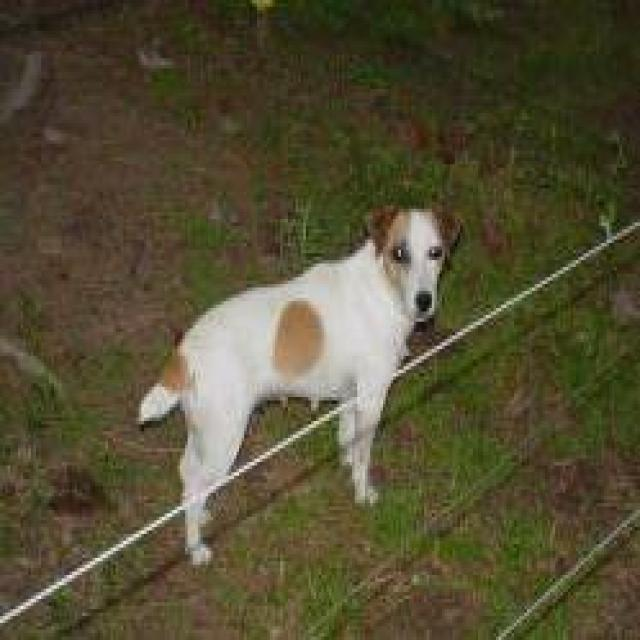dog: (136, 198, 463, 564)
